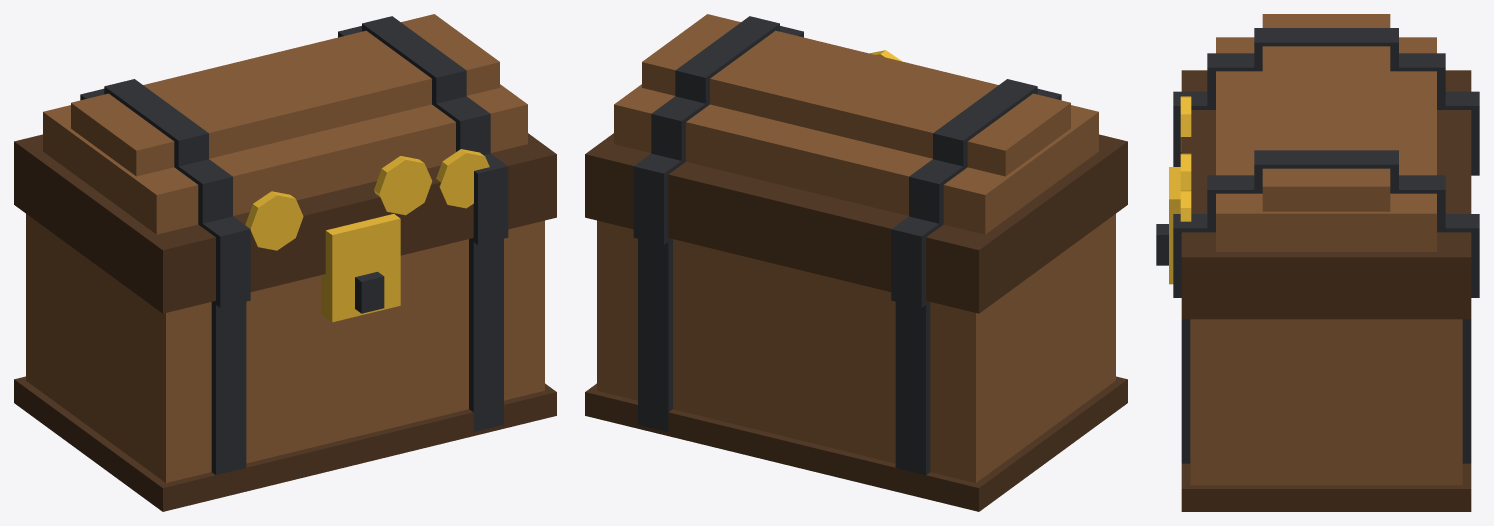
File: Chest.obj
3 views of the same model, side by side, from view 1: azimuth 30°, elevation 25°; view 2: azimuth 150°, elevation 25°; view 3: azimuth 270°, elevation 25° (orthographic). The views are drawn at different scales.
Parts seen in each view (by area): view 1: Chest; view 2: Chest; view 3: Chest.
Boxes of the visible parts, x1=… form: Chest: x1=14, y1=14, x2=556, y2=511; Chest: x1=585, y1=14, x2=1127, y2=511; Chest: x1=1156, y1=14, x2=1479, y2=511.
Bounding box in the file's own units: 1.04 × 0.835 × 0.76.
